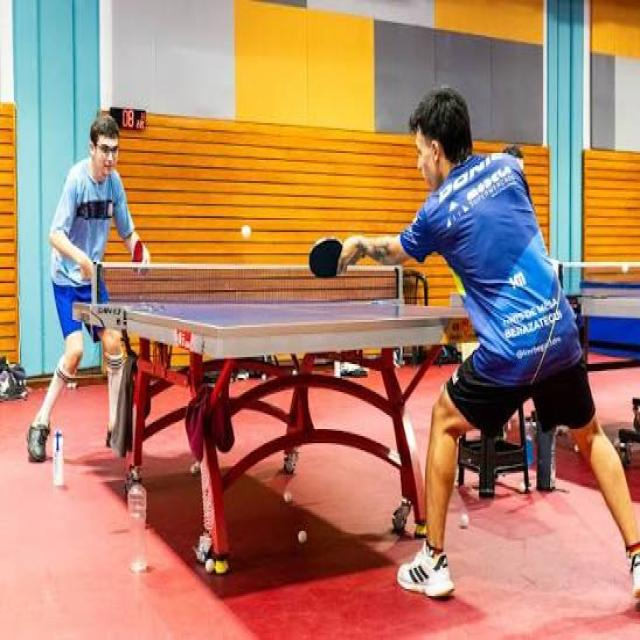TT Net: (91, 260, 404, 311), (557, 260, 639, 298)
TT Racket: (306, 230, 347, 281), (125, 236, 148, 275)
TT Table: (75, 298, 573, 329)
